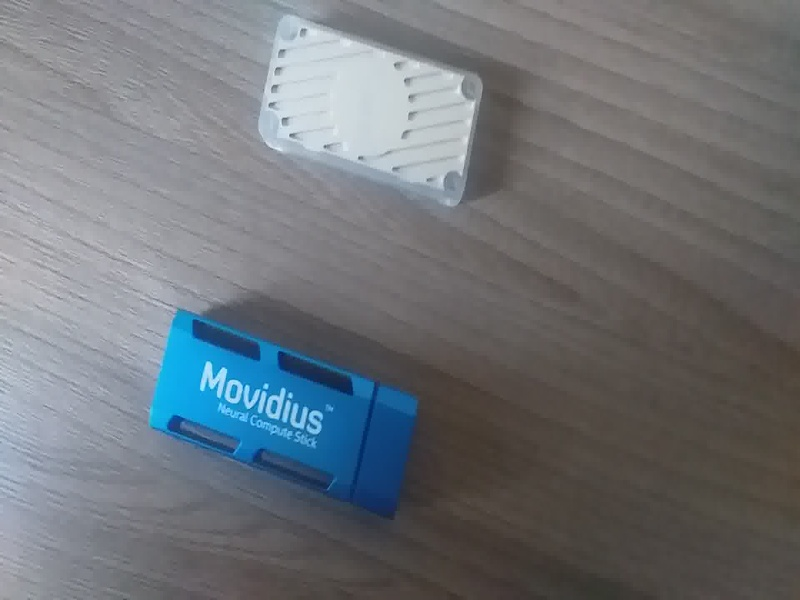coral: (249, 15, 526, 222)
movidius: (148, 301, 427, 534)
